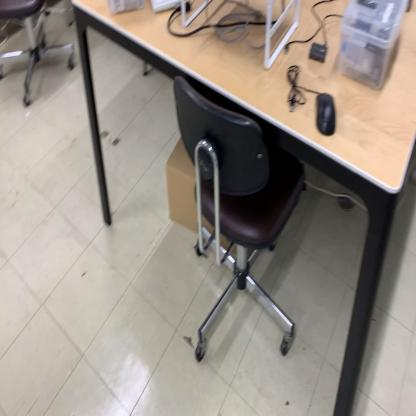chair: (172, 71, 306, 366), (0, 0, 76, 110)
